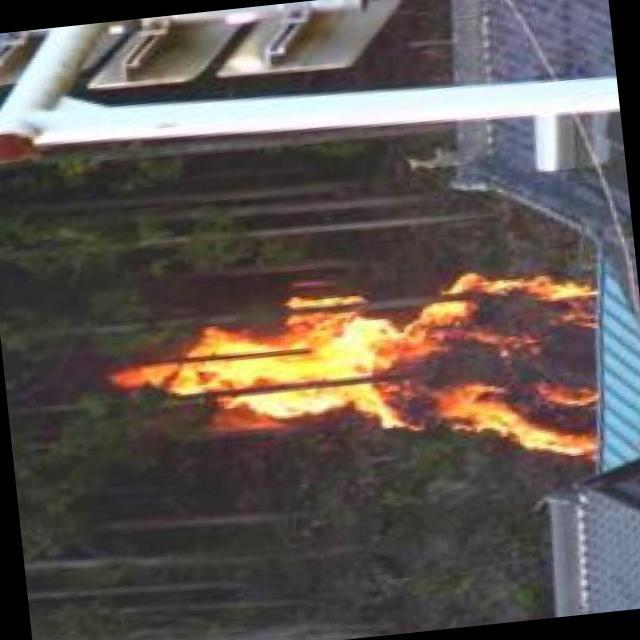Fire: (103, 251, 604, 504)
